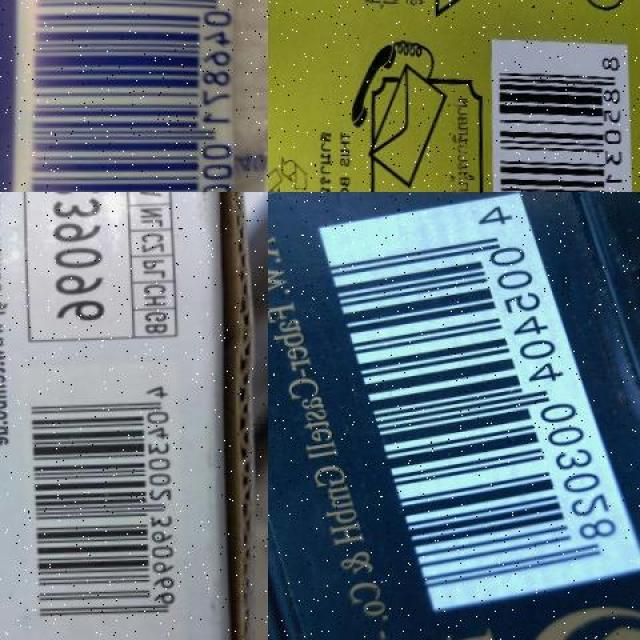Barcode: (309, 193, 640, 616), (20, 365, 181, 640), (8, 0, 223, 192), (487, 49, 628, 192)
